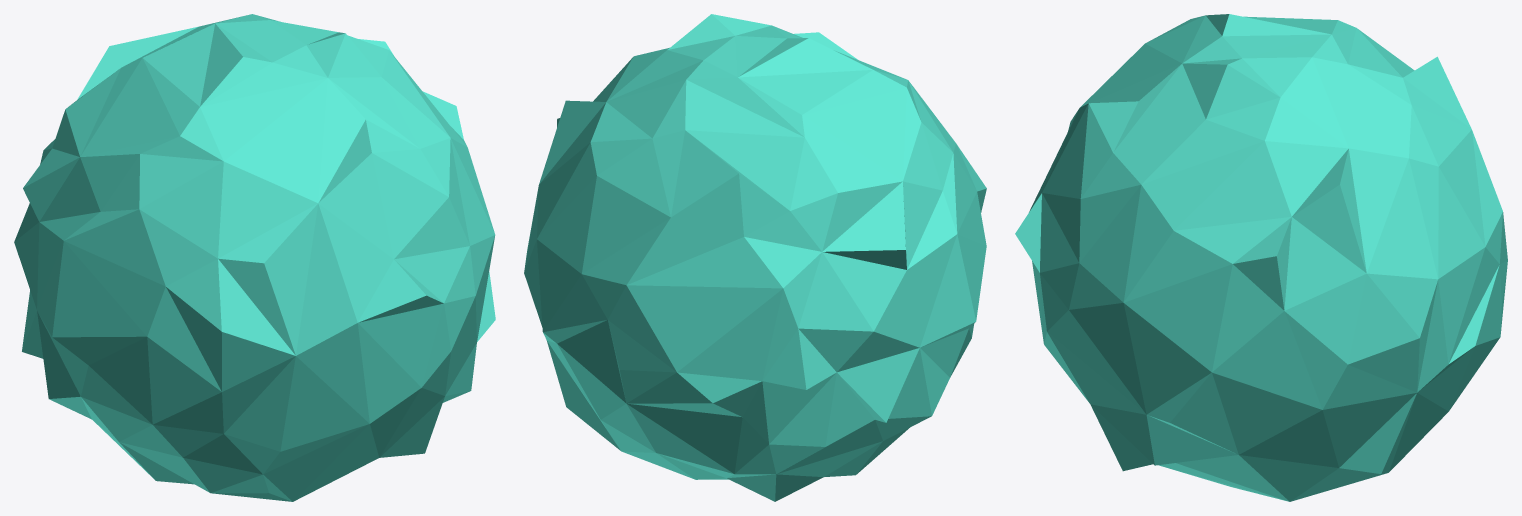
The model's file is icy_planet7.fbx.
3 renders of one model, left to right at view 1: azimuth 30°, elevation 25°; view 2: azimuth 150°, elevation 25°; view 3: azimuth 270°, elevation 25°, orthographic. The views are drawn at different scales.
Visible parts, largest first — view 1: icy_planet7; view 2: icy_planet7; view 3: icy_planet7.
Part boxes in pixels (<box>): icy_planet7: <box>14,14,495,501</box>; icy_planet7: <box>524,14,986,501</box>; icy_planet7: <box>1015,14,1507,501</box>.
Size of the model in its own units: 208 by 205 by 210.
